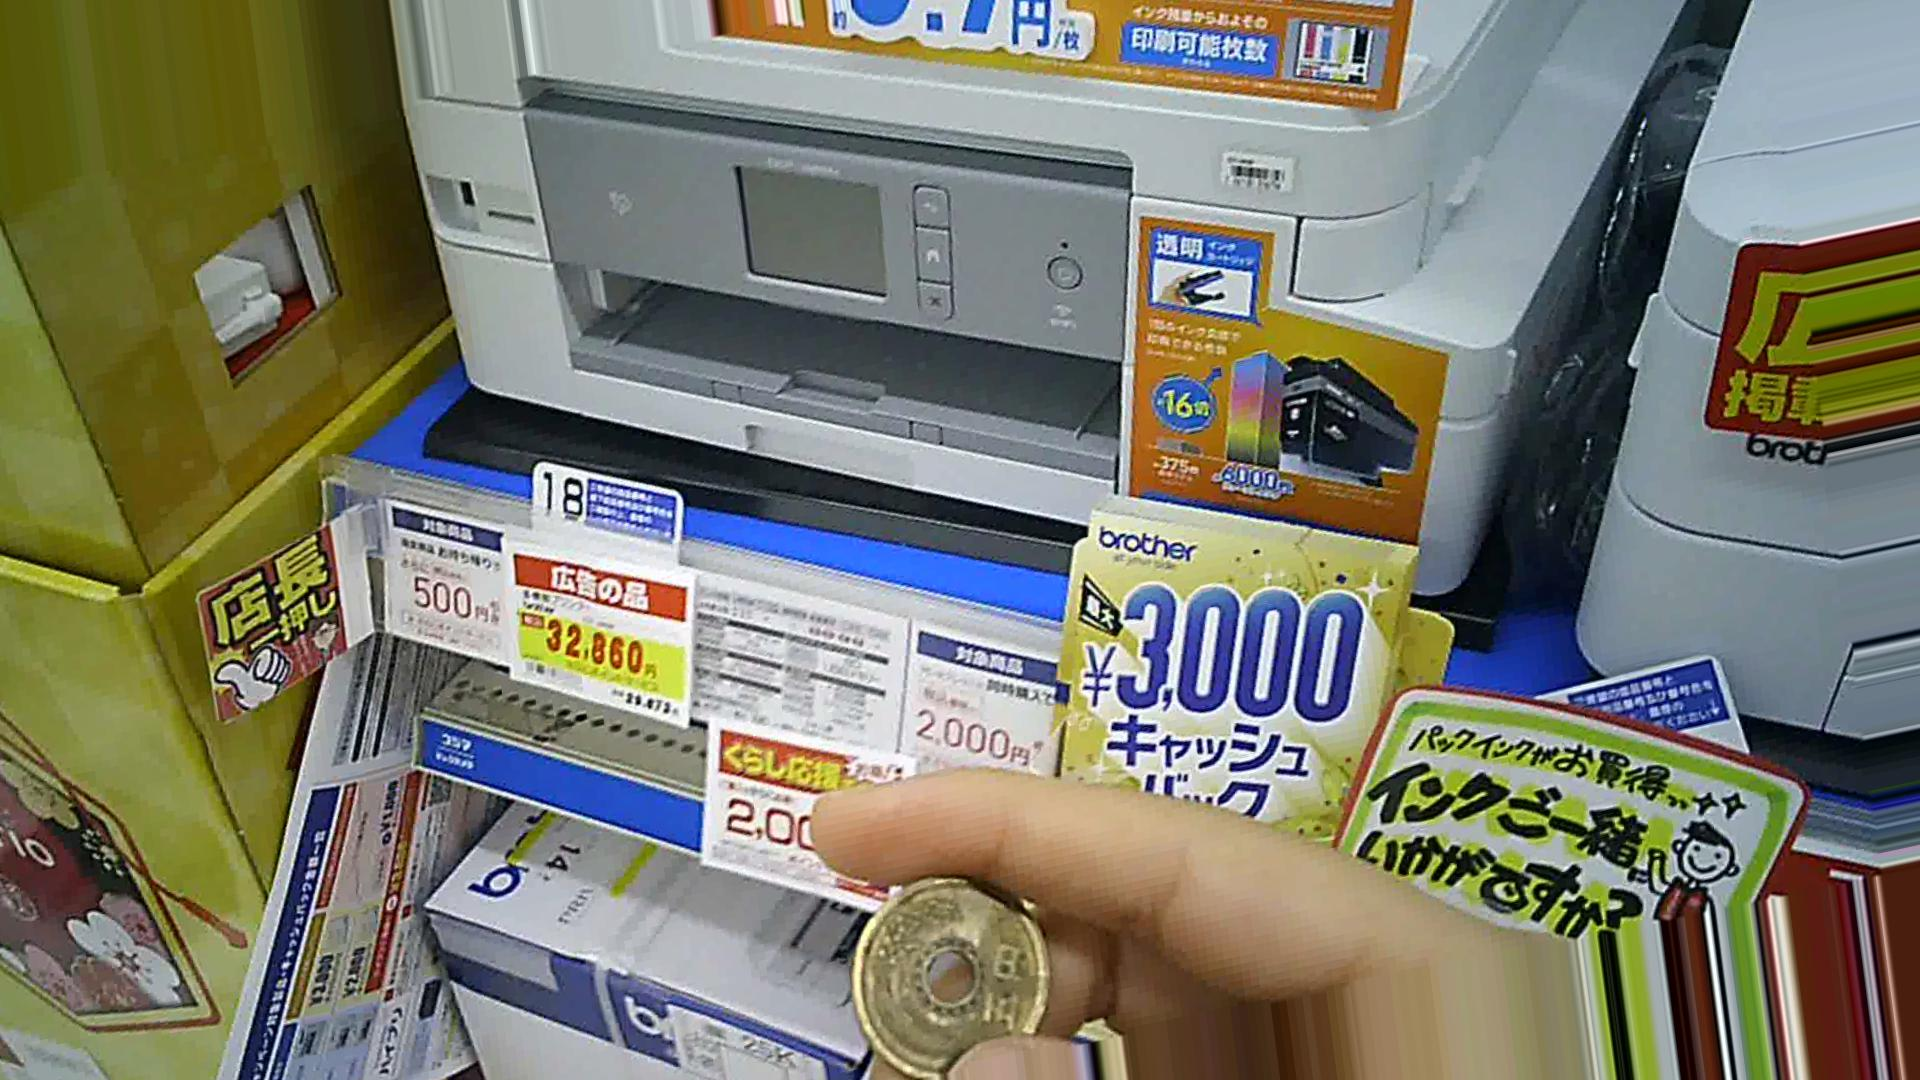5 Yen: (843, 869, 1051, 1058)
